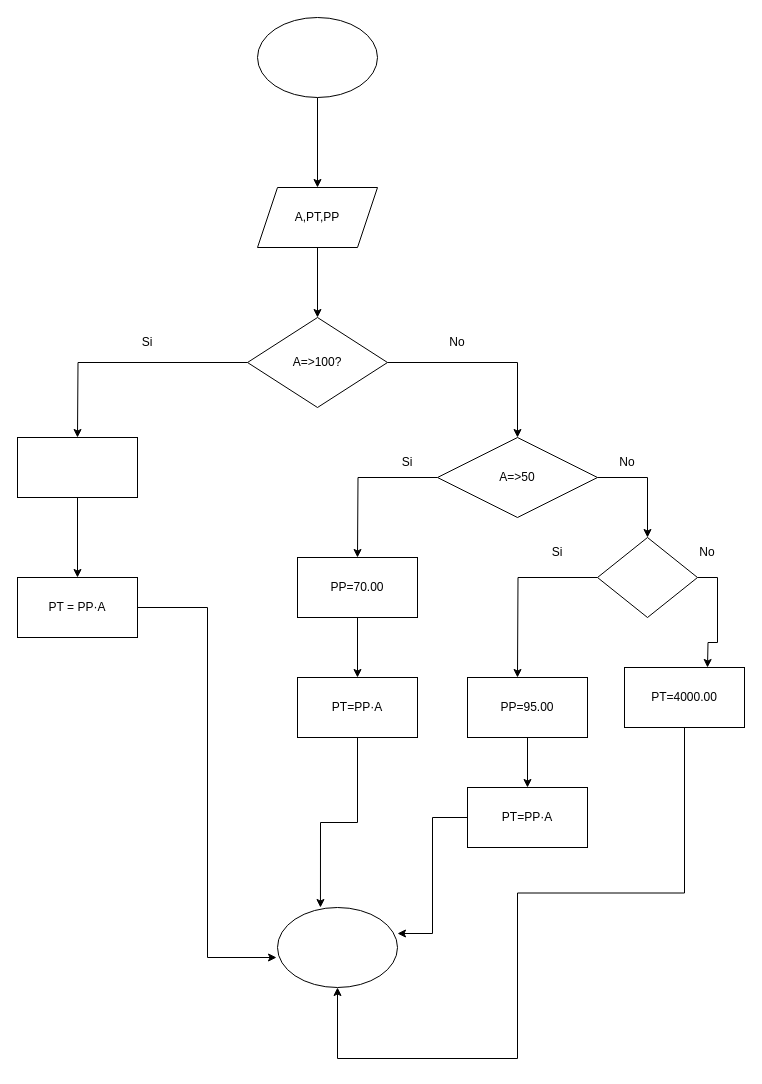
The diagram is 762 pixels wide and 1084 high, and some of its shapes have lost their labels. Here are the shapes that lost their labels. From the top down, the centre of each, then its label:
the point at 317,57: INICIO
the point at 77,467: PP=65.00
the point at 647,577: A=>30
the point at 337,947: FIN
